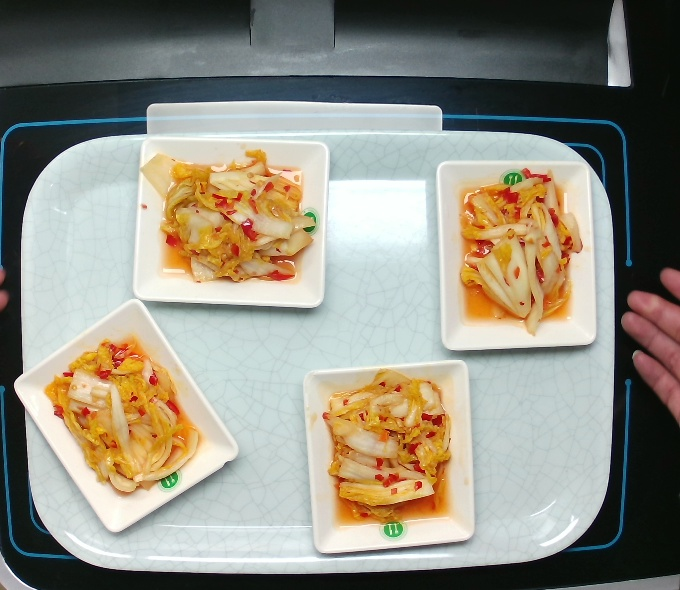wcq-SuanLaBaiCai: (132, 142, 319, 290), (39, 332, 206, 497), (448, 159, 590, 342), (316, 363, 459, 526)
